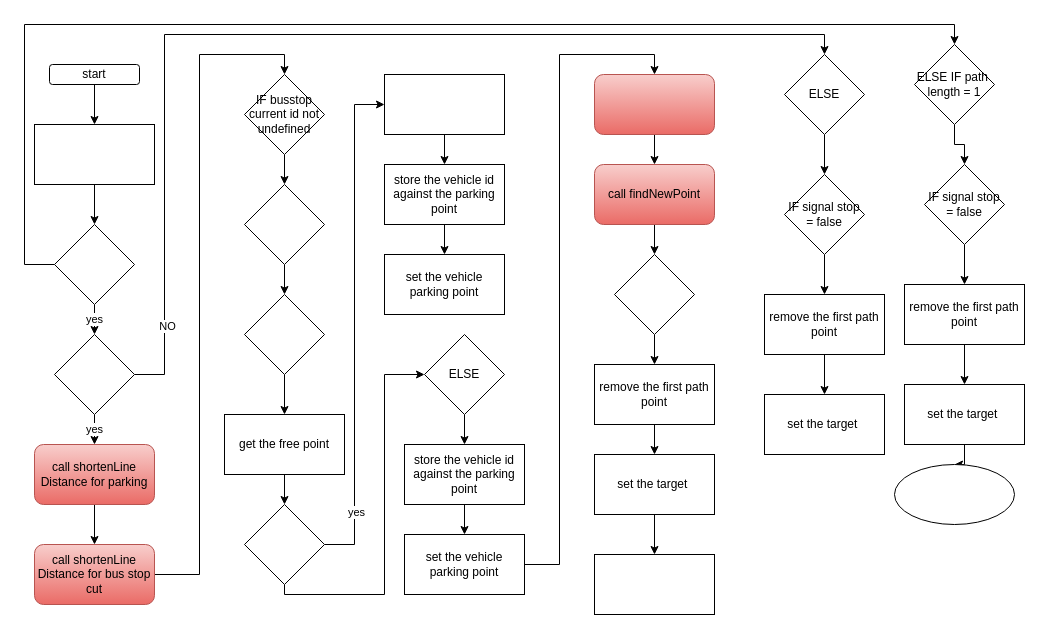
This 1042x632 diagram has some shape labels left out. The box of each missing label's shape, as (x1, y1, x2, y2) in pixels:
call shortenLine Distance for second cut: (594, 74, 714, 134)
end: (894, 464, 1014, 524)
FOR all parking data of this id: (244, 184, 324, 264)
IF busstop or supply point: (54, 334, 134, 414)
IF free point is undefined: (244, 504, 324, 584)
IF index< path length: (54, 224, 134, 304)
IF parking point of some thing is null: (244, 294, 324, 374)
IF vehicle signal stop false: (614, 254, 694, 334)
set the index 1: (34, 124, 154, 184)
store the parking data against the id: (384, 74, 504, 134)
store the parking point and moved point: (594, 554, 714, 614)
